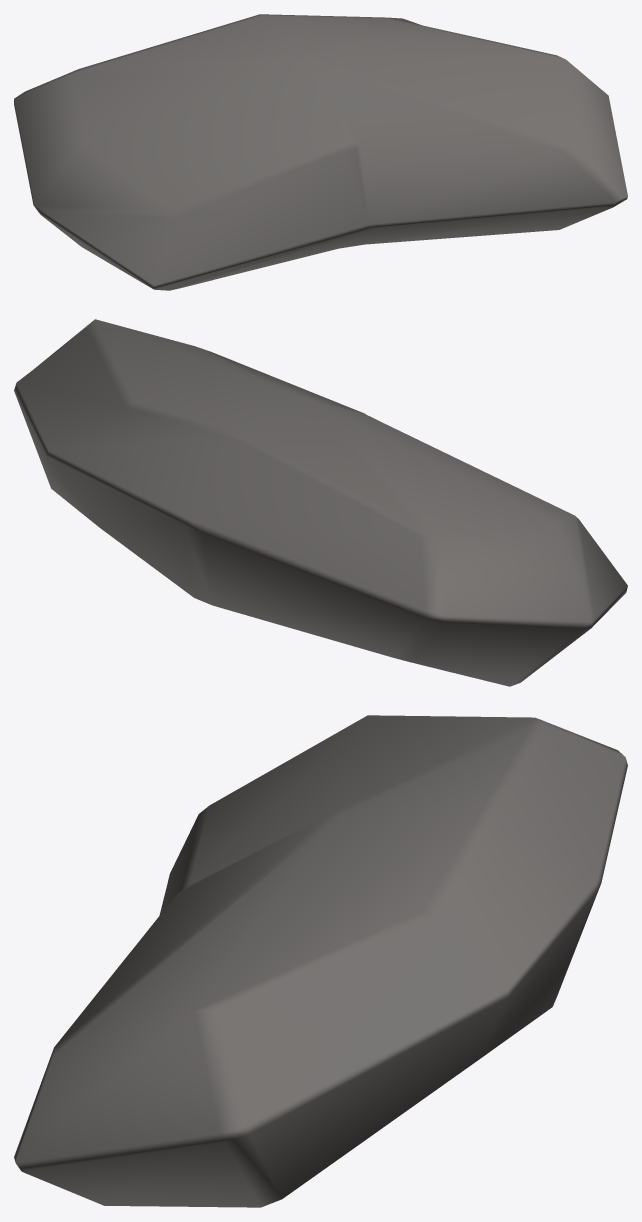
The model's file is _asteroid_08.fbx.
3 views of the same model, one above another, from view 1: azimuth 30°, elevation 25°; view 2: azimuth 150°, elevation 25°; view 3: azimuth 270°, elevation 25° (orthographic). The views are drawn at different scales.
Parts seen in each view (by area): view 1: Аsteroid_08; view 2: Аsteroid_08; view 3: Аsteroid_08.
Part boxes in pixels (x1=…): Аsteroid_08: x1=14, y1=14, x2=627, y2=290; Аsteroid_08: x1=14, y1=319, x2=627, y2=686; Аsteroid_08: x1=14, y1=715, x2=627, y2=1207.
Size of the model in its own units: 844 by 284 by 556.
Materials: 1 (1 with a texture image).
